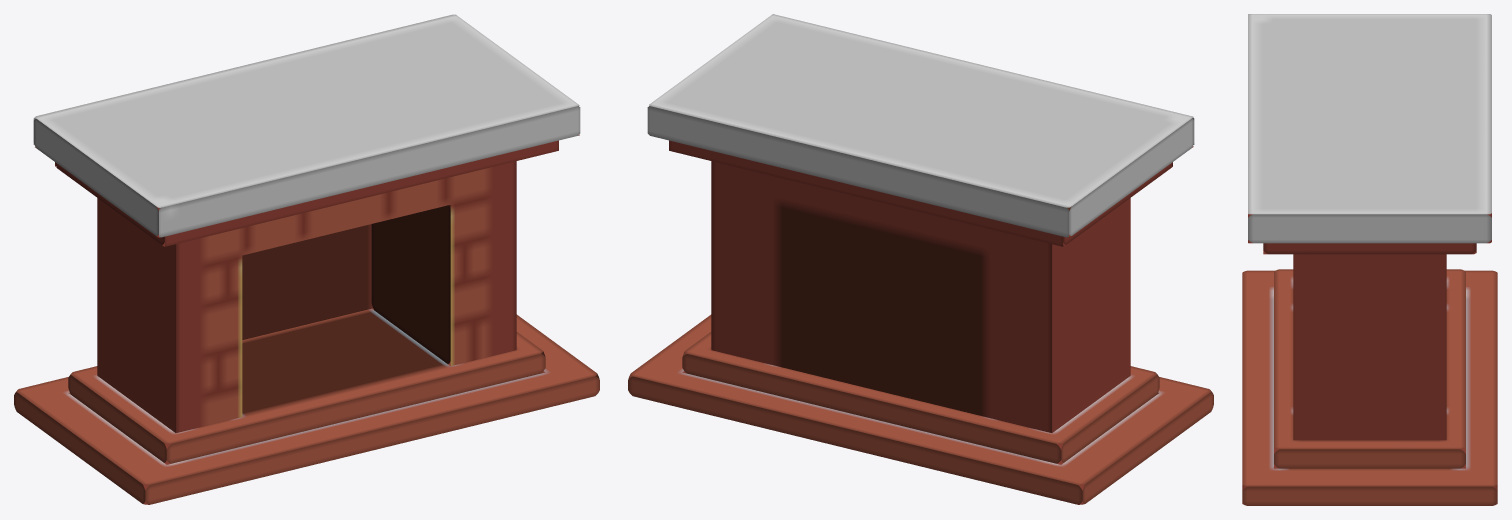
Rendered from Fireplace.fbx.
3 renders of one model, left to right at view 1: azimuth 30°, elevation 25°; view 2: azimuth 150°, elevation 25°; view 3: azimuth 270°, elevation 25°, orthographic. The views are drawn at different scales.
Visible parts, largest first — view 1: fireplace; view 2: fireplace; view 3: fireplace.
Part boxes in pixels (box(x1,y1,x2,y2)): fireplace: box(14, 14, 599, 504); fireplace: box(628, 14, 1213, 504); fireplace: box(1242, 14, 1497, 505).
Size of the model in its own units: 250 by 153 by 125.
Materials: 1 (1 with a texture image).
